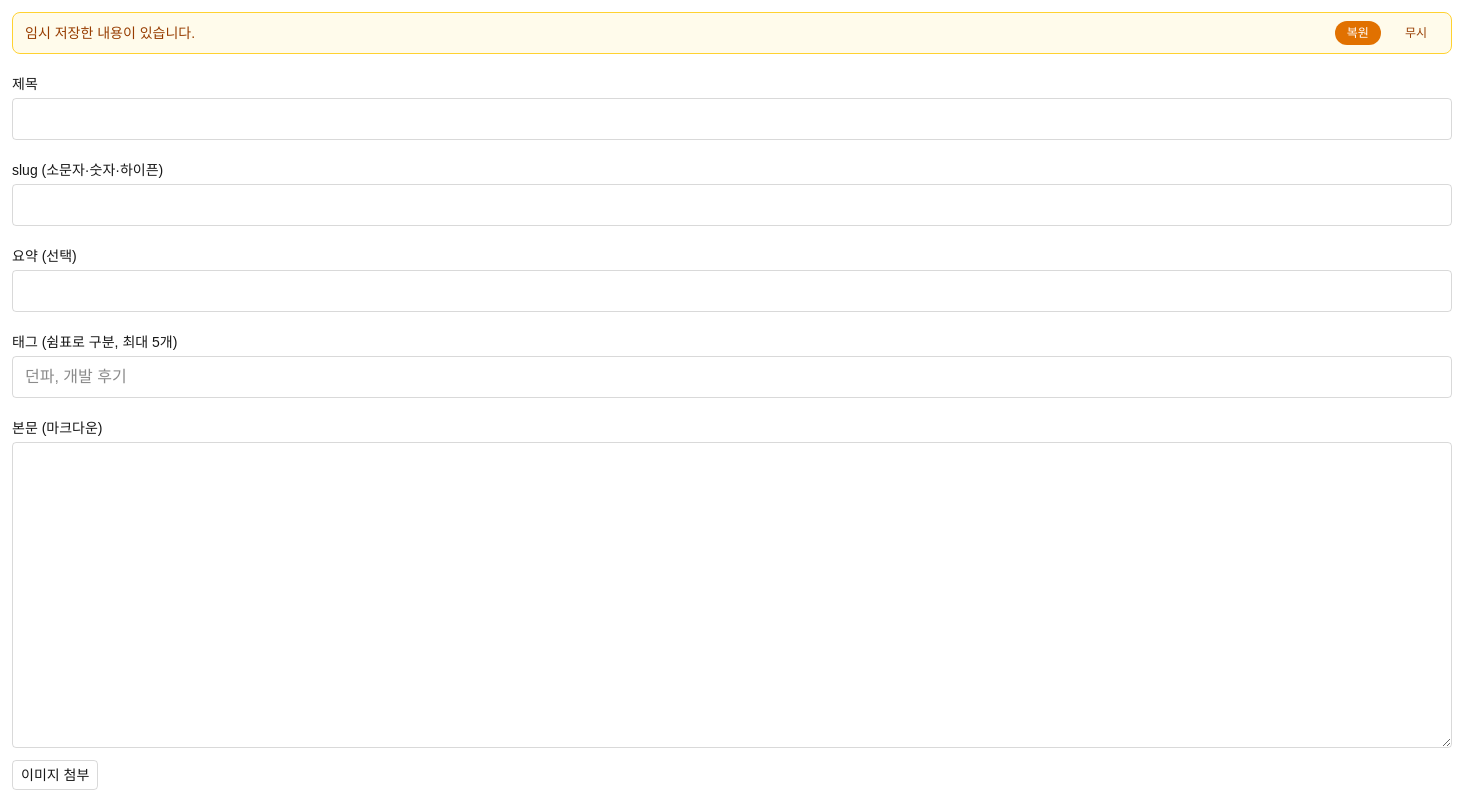
Test: FeedForm 초안 자동저장(uncontrolled) › 저장된 초안이 있으면 복원 배너 → 복원 시 uncontrolled 필드 값 설정
Click the button "복원". click: x=1358, y=33
box: [1335,21,1381,45]
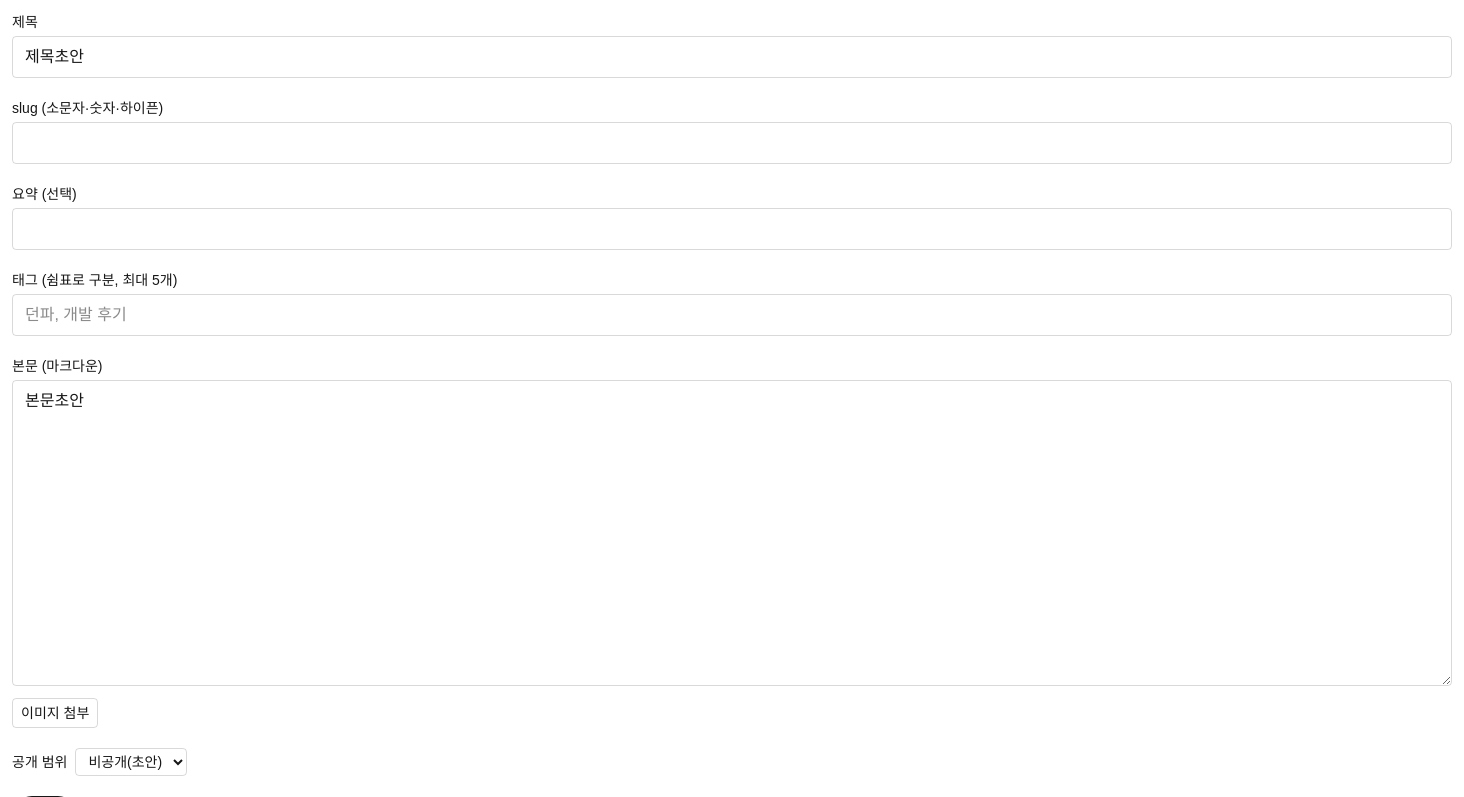
expect the field named "title" below "제목" holds "제목초안": met, box [12,36,1452,78]
expect the text box named "content" holds "본문초안": met, box [12,380,1452,686]
